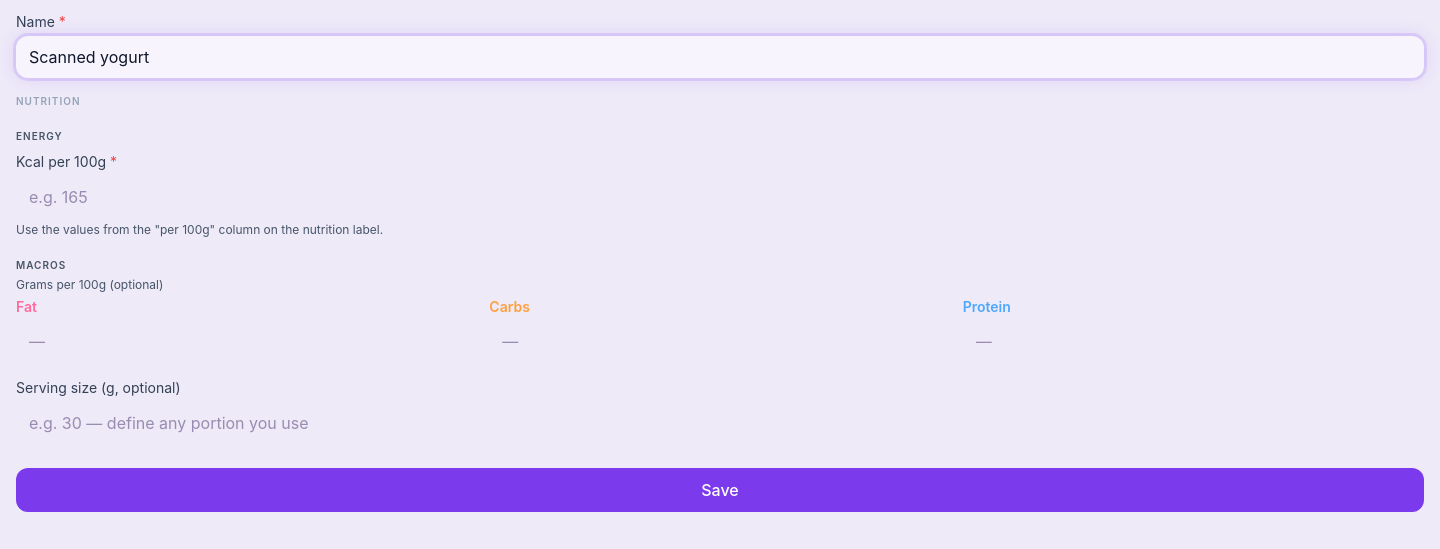
ProductForm › renders scanner-prefilled missing kcal as blank and requires user input before save
Expected: the field with id "name" holds "Scanned yogurt", [16,36,1424,78]
Expected: the number field with id "caloriesPer100g" is not empty, [16,176,1424,218]
Click the button "Save": (720, 490) [16,468,1424,512]
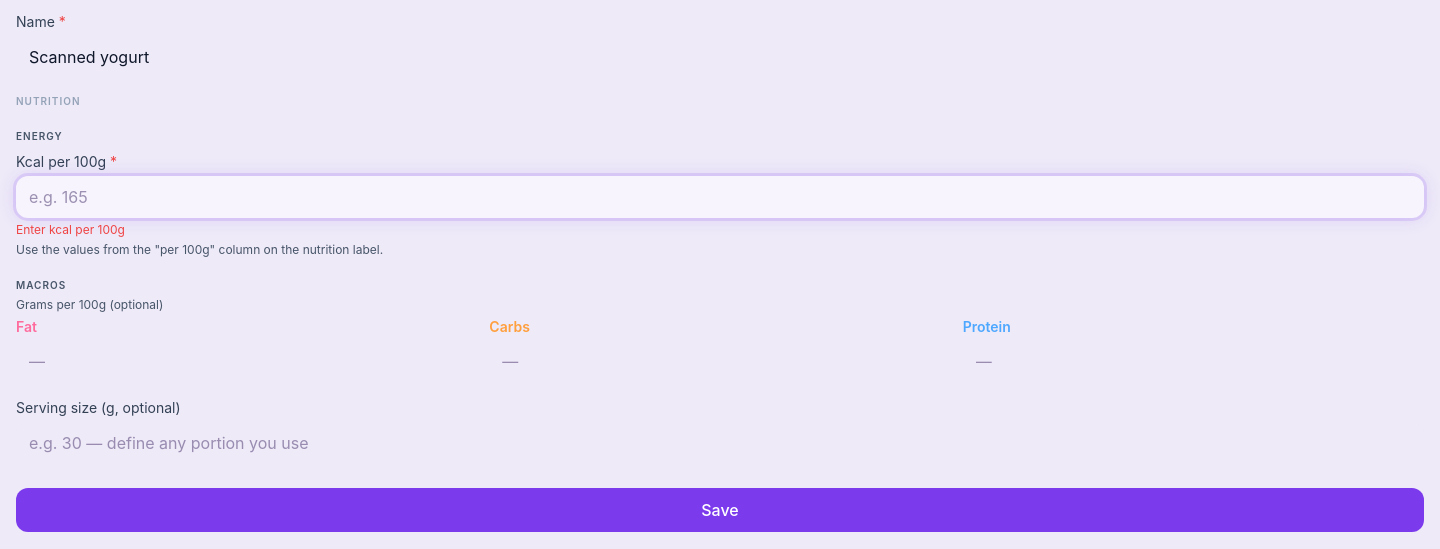
Now the text "Enter kcal per 100g" is shown, box [16,222,125,237]
